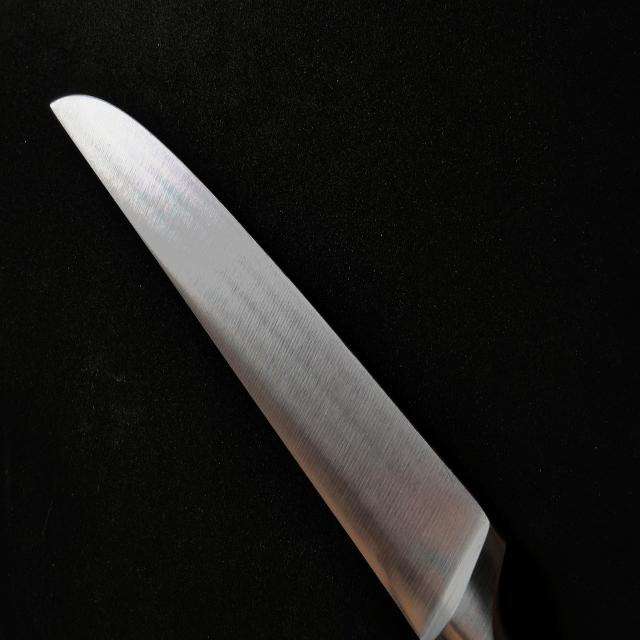Knife: (52, 96, 499, 639)
